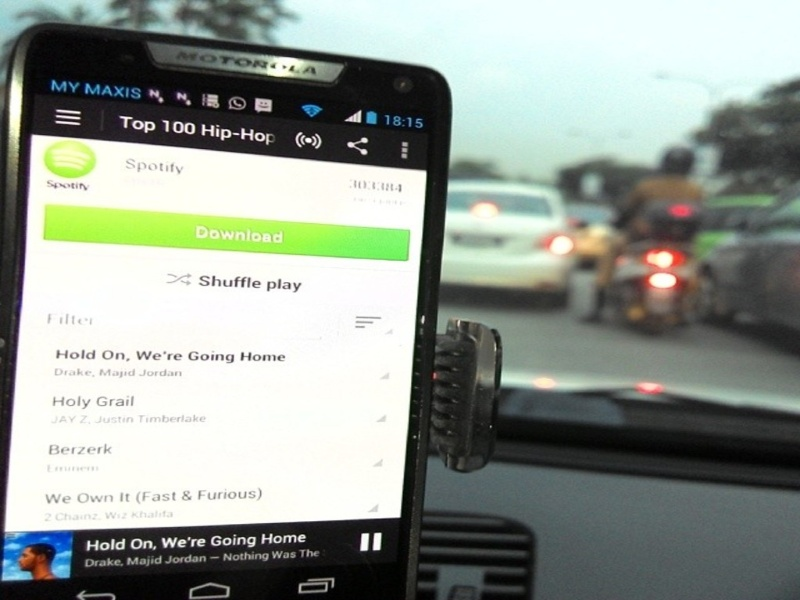cellphone: (1, 43, 457, 584)
